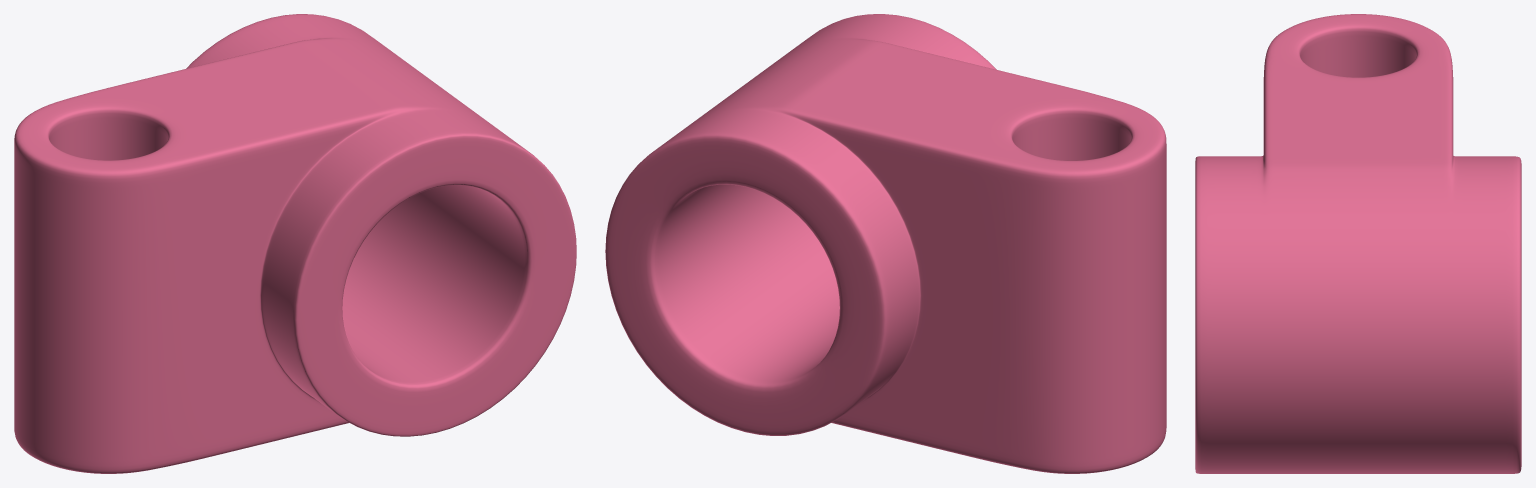
The model's file is GlibGlob.glb.
3 renders of one model, left to right at view 1: azimuth 30°, elevation 25°; view 2: azimuth 150°, elevation 25°; view 3: azimuth 270°, elevation 25°, orthographic. The views are drawn at different scales.
Visible parts, largest first — view 1: Cylinder.002; view 2: Cylinder.002; view 3: Cylinder.002.
Boxes of the visible parts, box(x1,y1,x2,y2) form: Cylinder.002: box(14, 14, 576, 473); Cylinder.002: box(605, 14, 1166, 473); Cylinder.002: box(1195, 14, 1521, 473).
Size of the model in its own units: 3.23 by 2 by 2.
